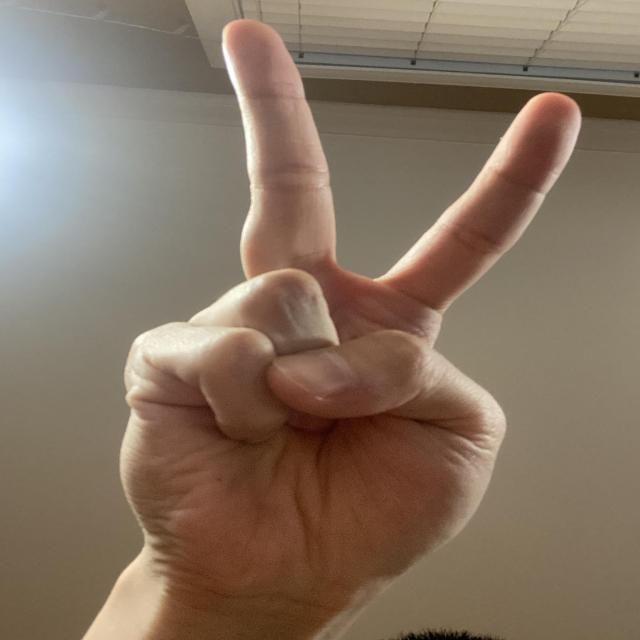V: (106, 14, 600, 615)
